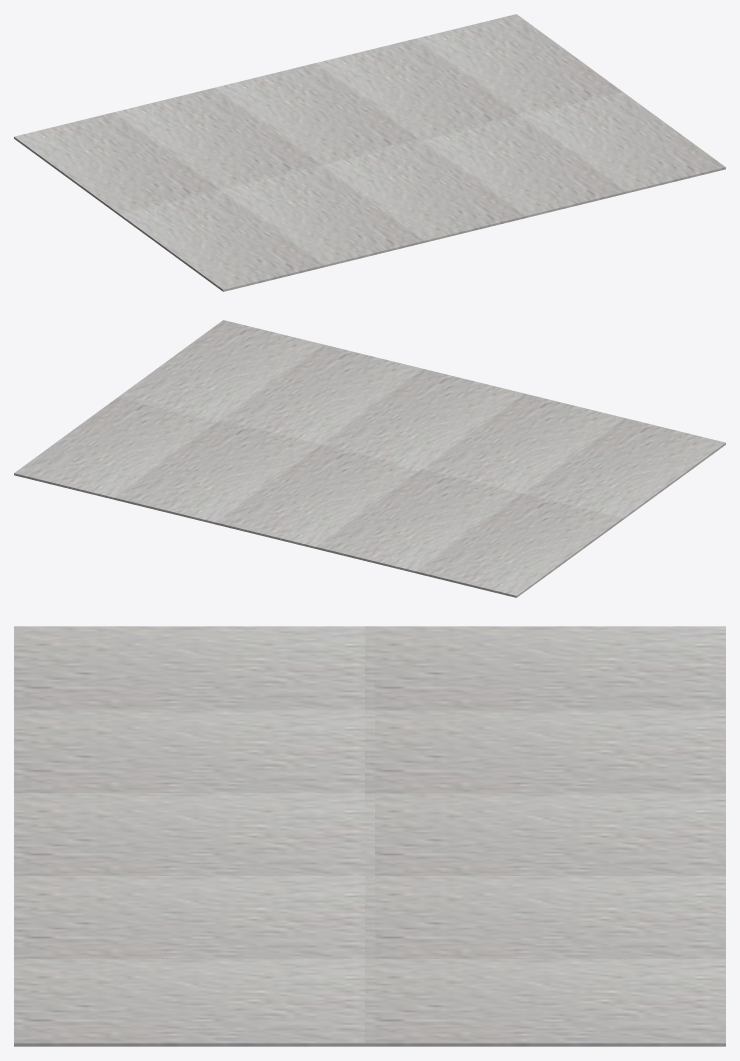
File: Ceiling.glb
3 views of the same model, one above another, from view 1: azimuth 30°, elevation 25°; view 2: azimuth 150°, elevation 25°; view 3: azimuth 270°, elevation 25° (orthographic). The views are drawn at different scales.
Visible parts, largest first — view 1: Cube.004; view 2: Cube.004; view 3: Cube.004.
Part boxes in pixels (x1,y1,x2,y2): Cube.004: (14, 14, 725, 291); Cube.004: (14, 320, 725, 597); Cube.004: (14, 626, 725, 1046).
Size of the model in its own units: 66.2 by 0.2604 by 47.77.
Materials: 1 (1 with a texture image).
